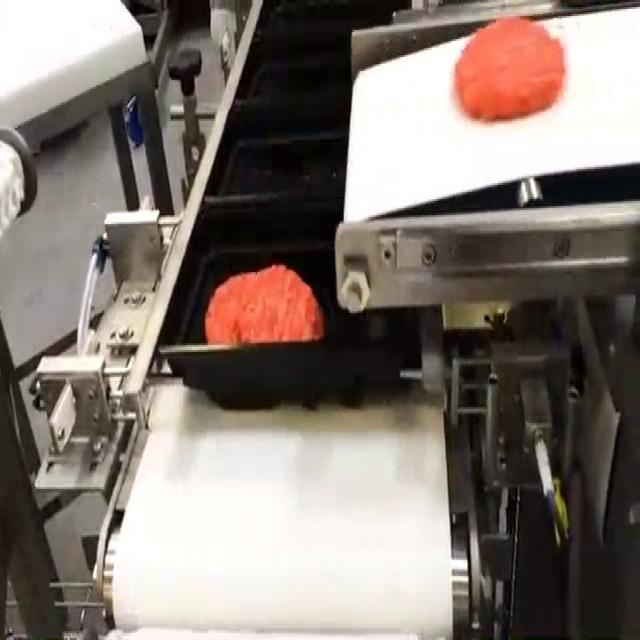hamburguer: (453, 18, 565, 121)
